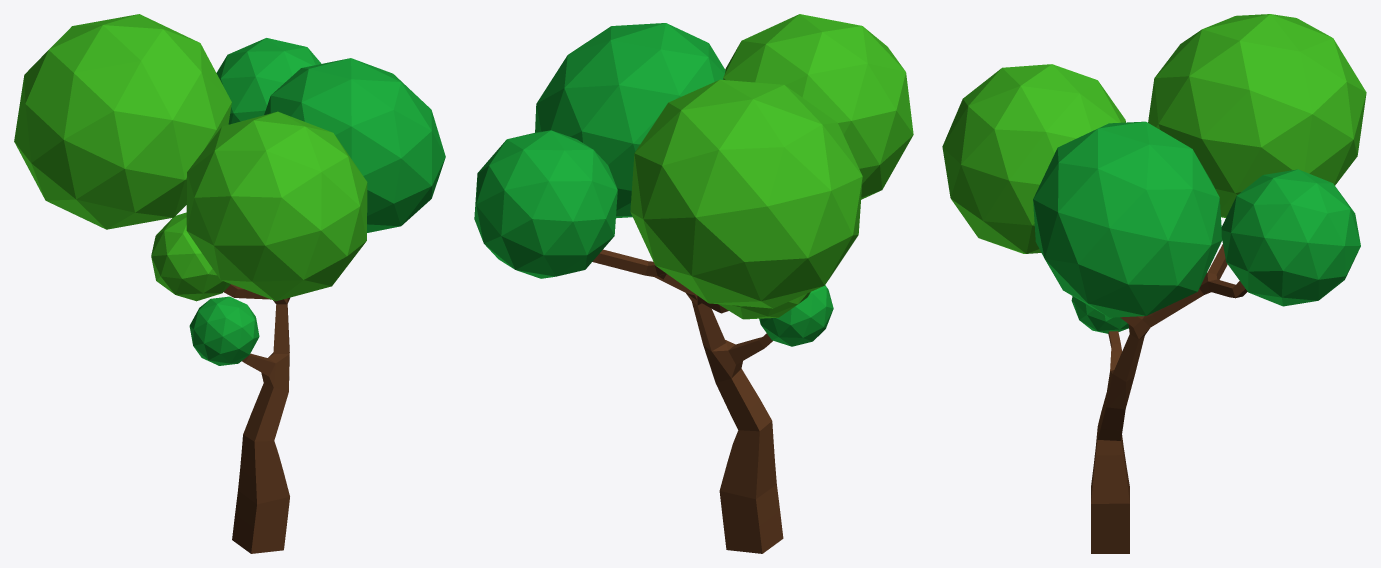
File: tree2.glb
3 views of the same model, side by side, from view 1: azimuth 30°, elevation 25°; view 2: azimuth 150°, elevation 25°; view 3: azimuth 270°, elevation 25° (orthographic). The views are drawn at different scales.
Parts seen in each view (by area): view 1: Icosphere.005; view 2: Icosphere.005; view 3: Icosphere.005.
Part boxes in pixels (x1,y1,x2,y2): Icosphere.005: (14, 14, 445, 553); Icosphere.005: (474, 14, 913, 553); Icosphere.005: (942, 14, 1366, 553).
Bounding box in the file's own units: 8.53 × 11.59 × 9.03.
